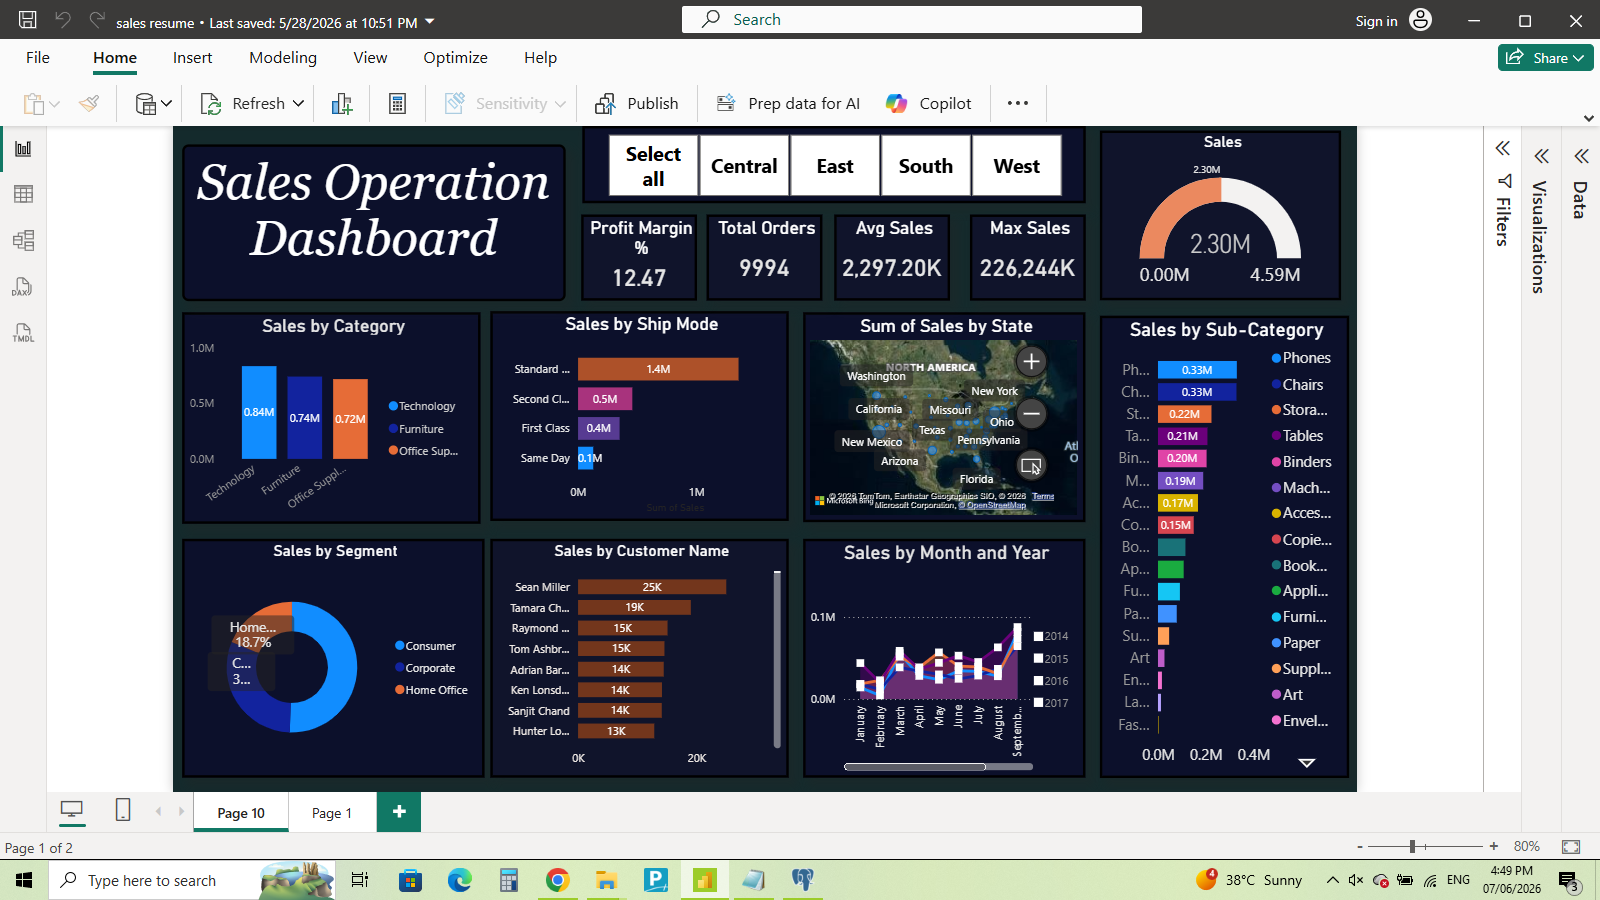

The dashboard page shown, as its layout file describes it:
{"tool":"powerbi","page":{"name":"Page 10","canvas":[1280,720],"ordinal":0},"visuals":[{"type":"slicer","fields":{"Values":["Sheet1.Region"]},"box":[442.5,0,544.6,83],"z":0},{"type":"donutChart","title":" Sales by Segment","fields":{"Category":["Sheet1.Segment"],"Y":["Sum(Sheet1.Sales)"]},"box":[9.5,446.6,326.8,258.7],"z":1000},{"type":"columnChart","title":" Sales by Category ","fields":{"Series":["Sheet1.Category"],"Y":["Sum(Sheet1.Sales)"],"Category":["Sheet1.Category"]},"box":[9.5,201.5,322.7,228.7],"z":2000},{"type":"barChart","title":"Sales by Sub-Category ","fields":{"Category":["Sheet1.Sub-Category"],"Y":["Sum(Sheet1.Sales)"],"Series":["Sheet1.Sub-Category"]},"box":[1002.5,205.5,269.4,499.9],"z":3000},{"type":"areaChart","title":"Sales by Month and Year","fields":{"Y":["Sum(Sheet1.Sales)"],"Series":["Sheet1.Order Date.Variation.Date Hierarchy.Year"],"Category":["Sheet1.Order Date.Variation.Date Hierarchy.Month"]},"box":[682.1,446.6,305,258.7],"z":4000},{"type":"map","title":"Sum of Sales by State","fields":{"Category":["Sheet1.State"],"Size":["Sum(Sheet1.Sales)"]},"box":[682.1,201.5,305,227.4],"z":5000},{"type":"clusteredBarChart","title":" Sales by Ship Mode","fields":{"Category":["Sheet1.Ship Mode"],"Y":["Sum(Sheet1.Sales)"]},"box":[343.1,200.1,322.7,227.4],"z":6000},{"type":"textbox","box":[9.7,19.4,415.2,169.4],"z":7000},{"type":"clusteredBarChart","title":"Sales by Customer Name","fields":{"Category":["Sheet1.Customer Name"],"Y":["Sum(Sheet1.Sales)"]},"box":[343.1,446.6,322.7,258.7],"z":8000},{"type":"gauge","title":"Sales ","fields":{"Y":["Sum(Sheet1.Sales)"],"TargetValue":["Sum(Sheet1.Sales)"]},"box":[1002.5,5.6,261,183.3],"z":9000},{"type":"kpi","title":"Profit Margin %","fields":{"TrendLine":["Sheet1.profit margin %1"],"Indicator":["Median(Sheet1.profit margin %)"]},"box":[441.6,95.8,125,93],"z":10000},{"type":"kpi","title":"Avg Sales","fields":{"Indicator":["Sum(Sheet1.average)"],"TrendLine":["Sheet1.average"]},"box":[715.1,95.8,125,93],"z":11000},{"type":"kpi","title":"Max Sales","fields":{"Indicator":["Sum(Sheet1.maximum)"],"TrendLine":["Sheet1.maximum"]},"box":[862.3,95.8,125,93],"z":12000},{"type":"kpi","title":"Total Orders","fields":{"Indicator":["CountNonNull(Sheet1.countrows)"],"TrendLine":["Sheet1.countrows"]},"box":[577.6,95.8,125,93],"z":13000}]}

Visuals, with their boxes on the page's 1280x720 design canvas (x1, y1, x2, y2). These are canvas units, not pixel positions in the 1600x900 screenshot, which may show the page scaled, cropped or inside an application window:
slicer - Sheet1.Region: pyautogui.locateOnScreen(442, 0, 987, 83)
" Sales by Segment" donutChart: pyautogui.locateOnScreen(10, 447, 336, 705)
" Sales by Category " columnChart: pyautogui.locateOnScreen(10, 202, 332, 430)
"Sales by Sub-Category " barChart: pyautogui.locateOnScreen(1002, 206, 1272, 705)
"Sales by Month and Year" areaChart: pyautogui.locateOnScreen(682, 447, 987, 705)
"Sum of Sales by State" map: pyautogui.locateOnScreen(682, 202, 987, 429)
" Sales by Ship Mode" clusteredBarChart: pyautogui.locateOnScreen(343, 200, 666, 428)
textbox: pyautogui.locateOnScreen(10, 19, 425, 189)
"Sales by Customer Name" clusteredBarChart: pyautogui.locateOnScreen(343, 447, 666, 705)
"Sales " gauge: pyautogui.locateOnScreen(1002, 6, 1264, 189)
"Profit Margin %" kpi: pyautogui.locateOnScreen(442, 96, 567, 189)
"Avg Sales" kpi: pyautogui.locateOnScreen(715, 96, 840, 189)
"Max Sales" kpi: pyautogui.locateOnScreen(862, 96, 987, 189)
"Total Orders" kpi: pyautogui.locateOnScreen(578, 96, 703, 189)
